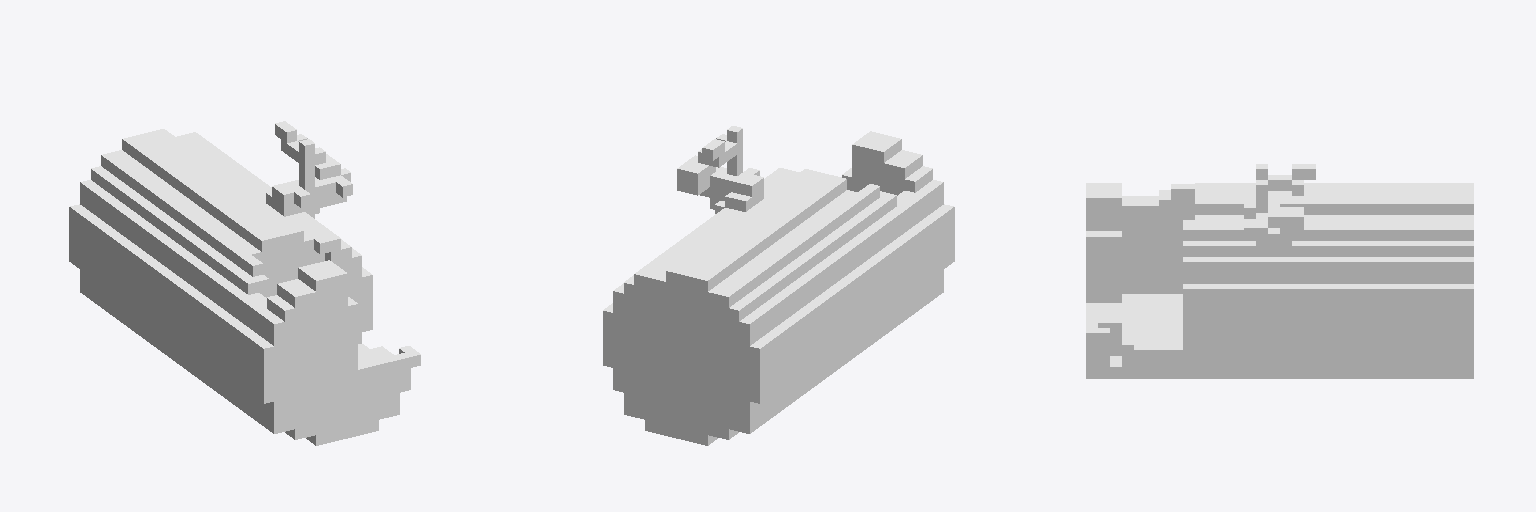
The model's file is paleno_001.obj.
3 views of the same model, side by side, from view 1: azimuth 30°, elevation 25°; view 2: azimuth 150°, elevation 25°; view 3: azimuth 270°, elevation 25° (orthographic).
Visible parts, largest first — view 1: object 1; view 2: object 1; view 3: object 1.
Boxes of the visible parts, x1=… form: object 1: x1=69, y1=121, x2=420, y2=445; object 1: x1=603, y1=126, x2=954, y2=445; object 1: x1=1086, y1=164, x2=1473, y2=378.
Size of the model in its own units: 1.7 by 2 by 3.2.